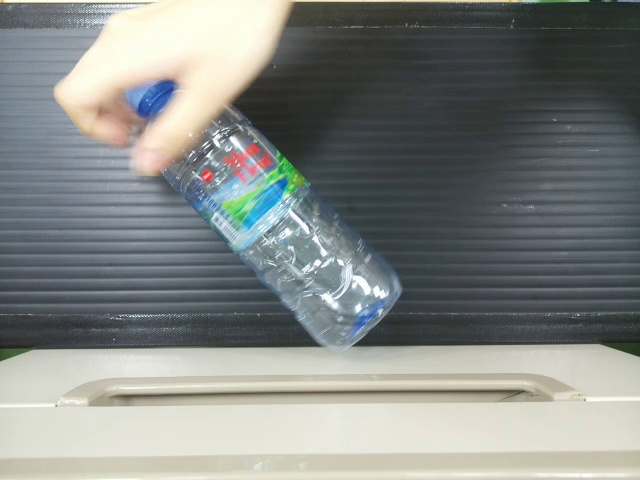bottle: (122, 90, 408, 350)
